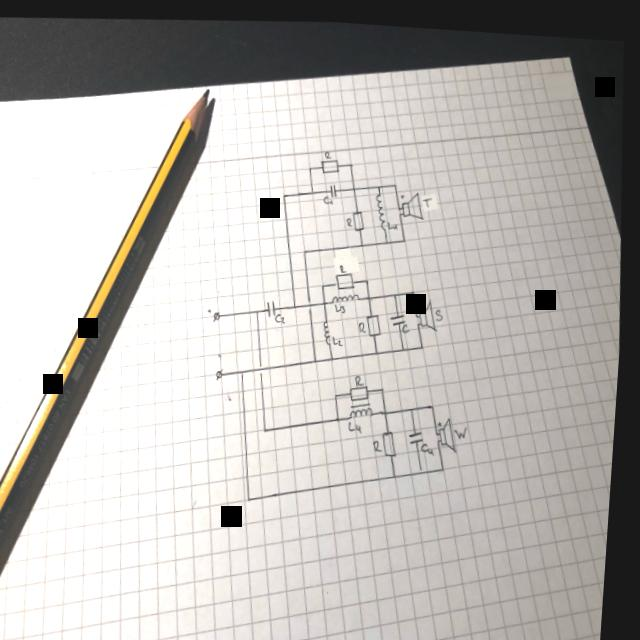capacitor: (412, 421, 428, 439), (392, 305, 411, 320), (267, 292, 279, 311), (329, 176, 341, 194)
crossover: (308, 290, 318, 309), (259, 354, 269, 372)
inductor: (375, 182, 391, 226), (351, 394, 379, 414), (332, 285, 364, 299), (324, 313, 337, 341)
junction: (320, 276, 330, 287), (391, 173, 400, 184), (384, 229, 393, 240), (322, 292, 331, 303), (306, 159, 315, 169), (347, 152, 356, 162), (375, 174, 384, 184), (360, 232, 369, 242), (293, 297, 302, 307), (255, 302, 264, 312), (316, 349, 324, 359), (303, 242, 311, 252), (282, 186, 290, 196), (309, 181, 317, 191), (351, 179, 359, 189), (402, 227, 410, 237), (421, 333, 429, 343), (402, 336, 410, 346), (265, 419, 274, 427), (331, 348, 339, 357), (368, 287, 376, 296), (411, 281, 419, 290), (375, 342, 383, 351), (385, 401, 392, 410), (396, 465, 403, 474), (251, 489, 258, 498), (365, 271, 372, 280), (340, 408, 346, 418), (395, 284, 401, 294), (444, 458, 451, 466), (432, 396, 439, 404), (382, 377, 388, 386), (337, 385, 343, 394), (243, 363, 249, 372), (425, 459, 431, 467), (413, 399, 419, 407)
resistor: (384, 421, 404, 454), (367, 306, 386, 332), (336, 266, 358, 286), (352, 377, 375, 395), (320, 152, 342, 170), (353, 203, 368, 226)
terminal: (218, 362, 230, 377), (215, 307, 225, 318)
text: (352, 414, 367, 429), (425, 434, 439, 448), (459, 417, 472, 432), (336, 296, 349, 309), (376, 433, 388, 446), (323, 189, 336, 201), (277, 307, 289, 319), (358, 368, 369, 381), (423, 189, 434, 202), (388, 213, 399, 225), (437, 301, 447, 314), (360, 315, 370, 326), (404, 316, 414, 326), (346, 210, 355, 221), (340, 257, 348, 268), (324, 145, 332, 154)
